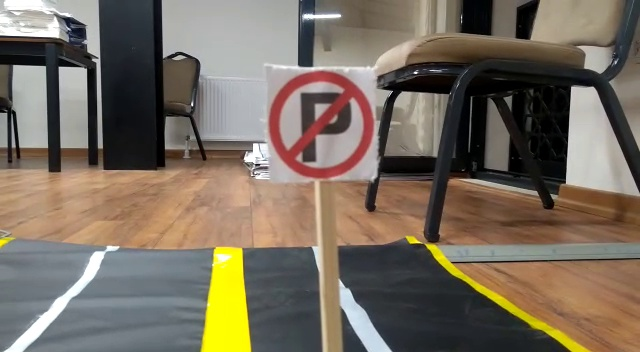park_yapilmaz: (264, 63, 377, 178)
